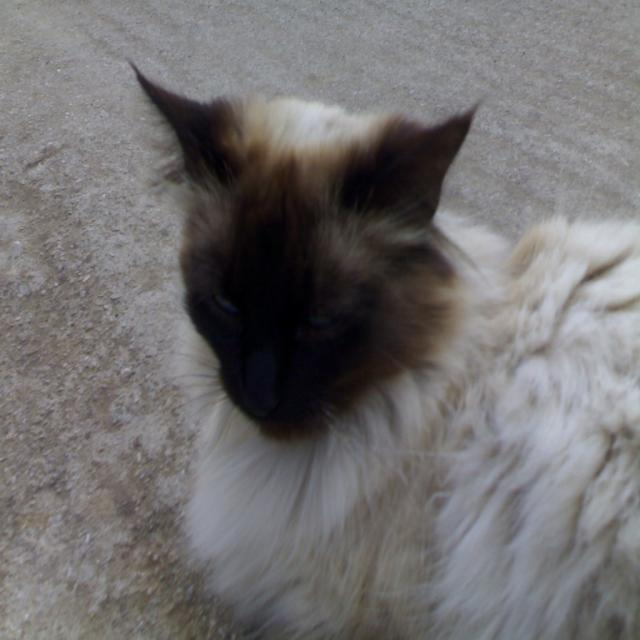Cat: (125, 55, 640, 639)
